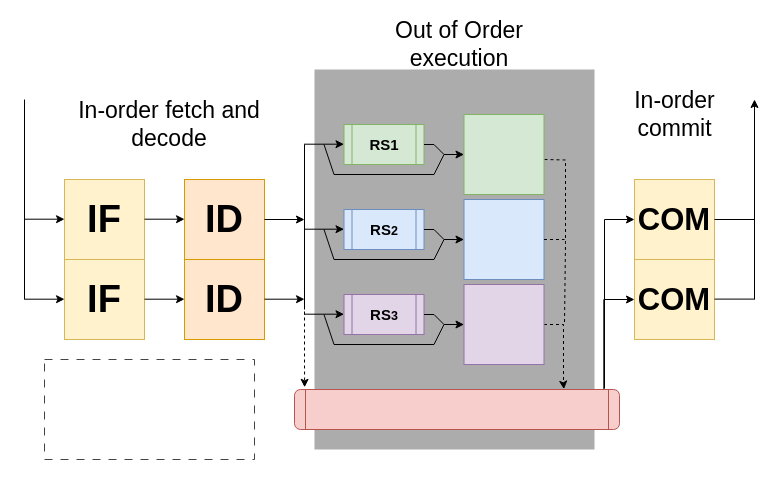
Some shapes in this 780 by 477 pixel diagram are drawn without their labels. The shapes that lost their labels are listed below. From the top down, each one's centre as x and y in pixels, then its label:
At [503,154]: "FU1".
At [503,239]: "FU2".
At [503,324]: "FU3".
At [149,409]: "OoO pipeline SUPERSCALAR = 2 N FU =2".
At [457,409]: "ROB".
